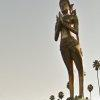Statue: (45, 2, 100, 100)
